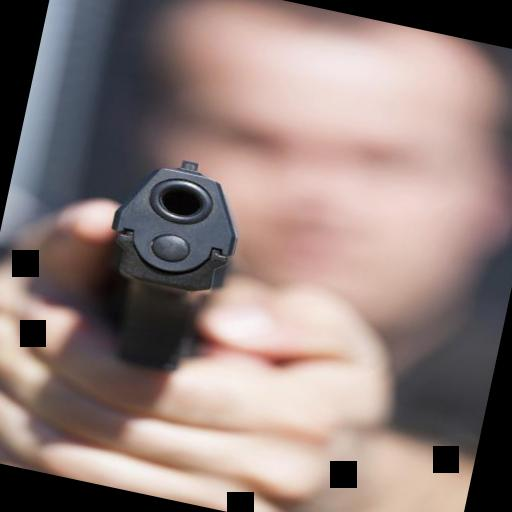Handgun: (66, 142, 257, 379)
